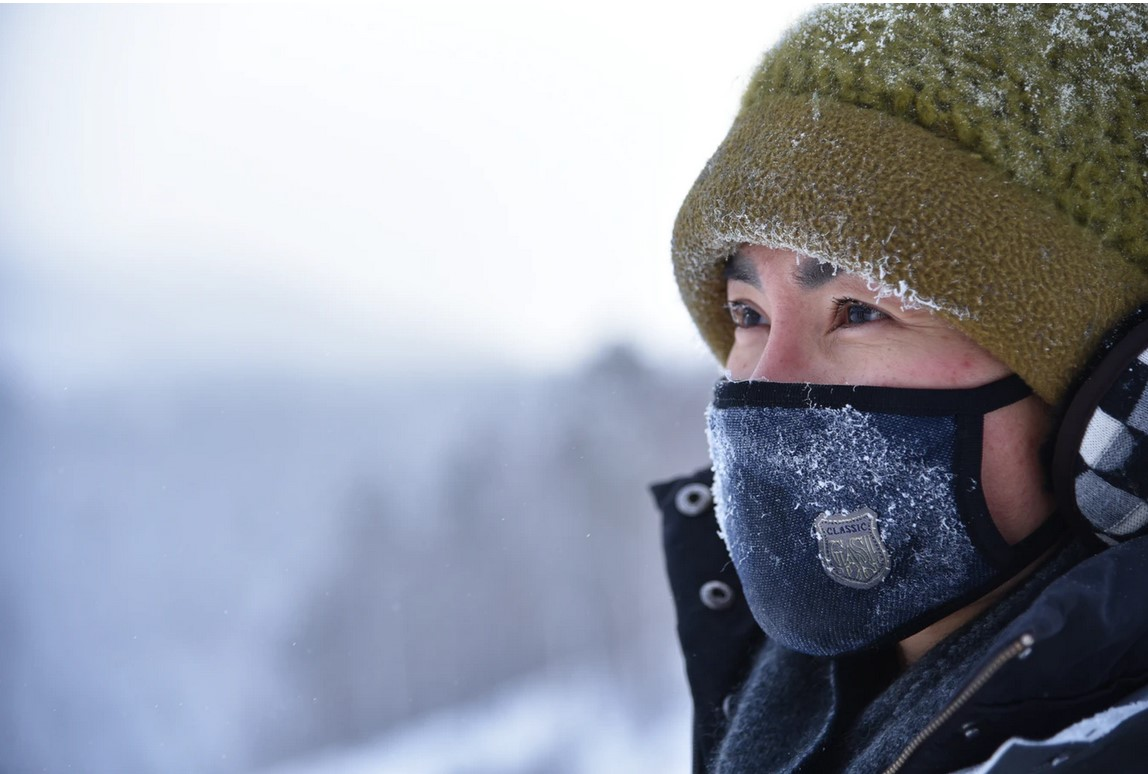face_with_mask: (658, 9, 1144, 660)
